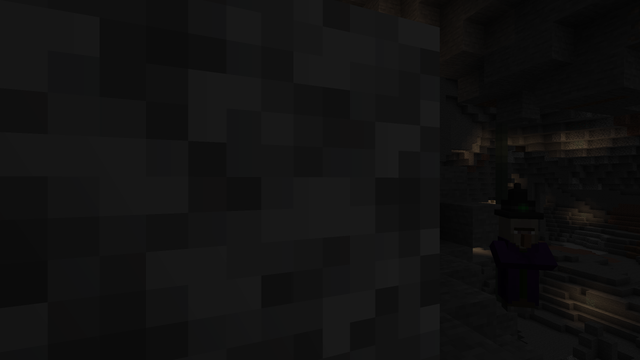sorcieres: (492, 211, 543, 320)
